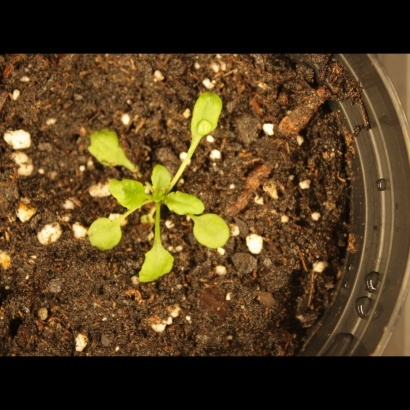leaf: (80, 119, 137, 175), (133, 233, 181, 292), (186, 86, 226, 150), (106, 173, 149, 217), (86, 213, 128, 258), (194, 213, 232, 253), (162, 191, 208, 218), (149, 163, 174, 204)
